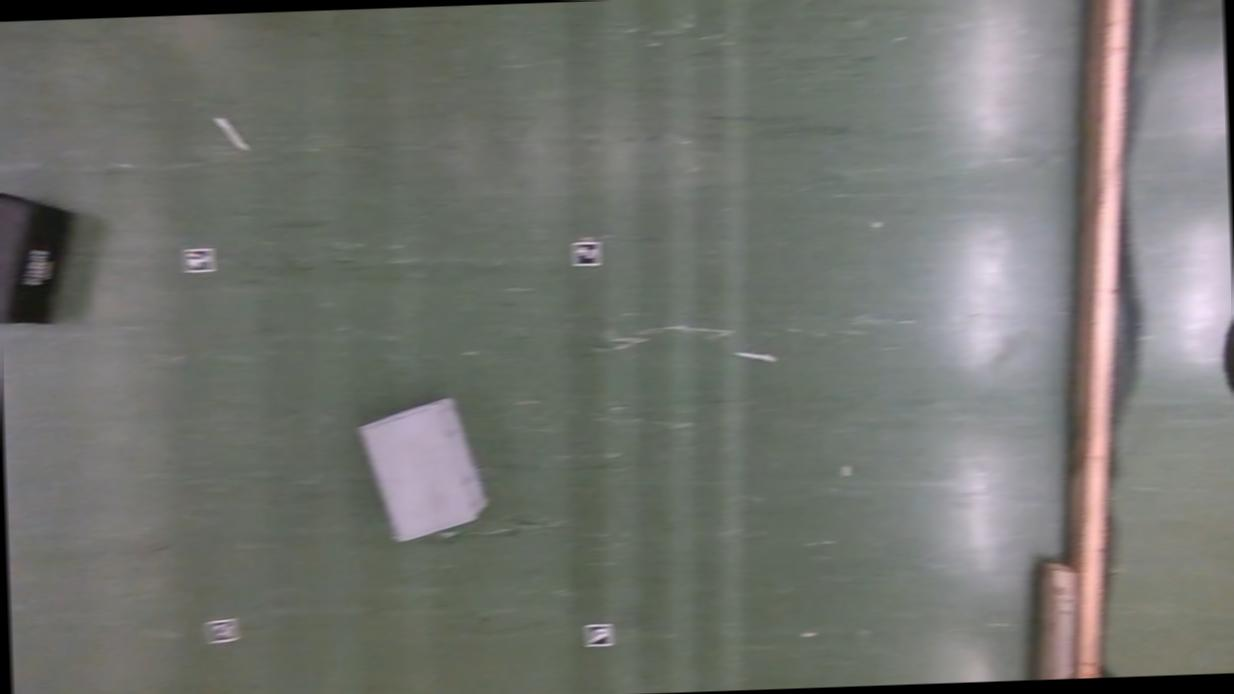probes: (215, 114, 246, 151), (735, 348, 775, 362)
rako: (356, 394, 487, 540), (0, 190, 76, 326)
